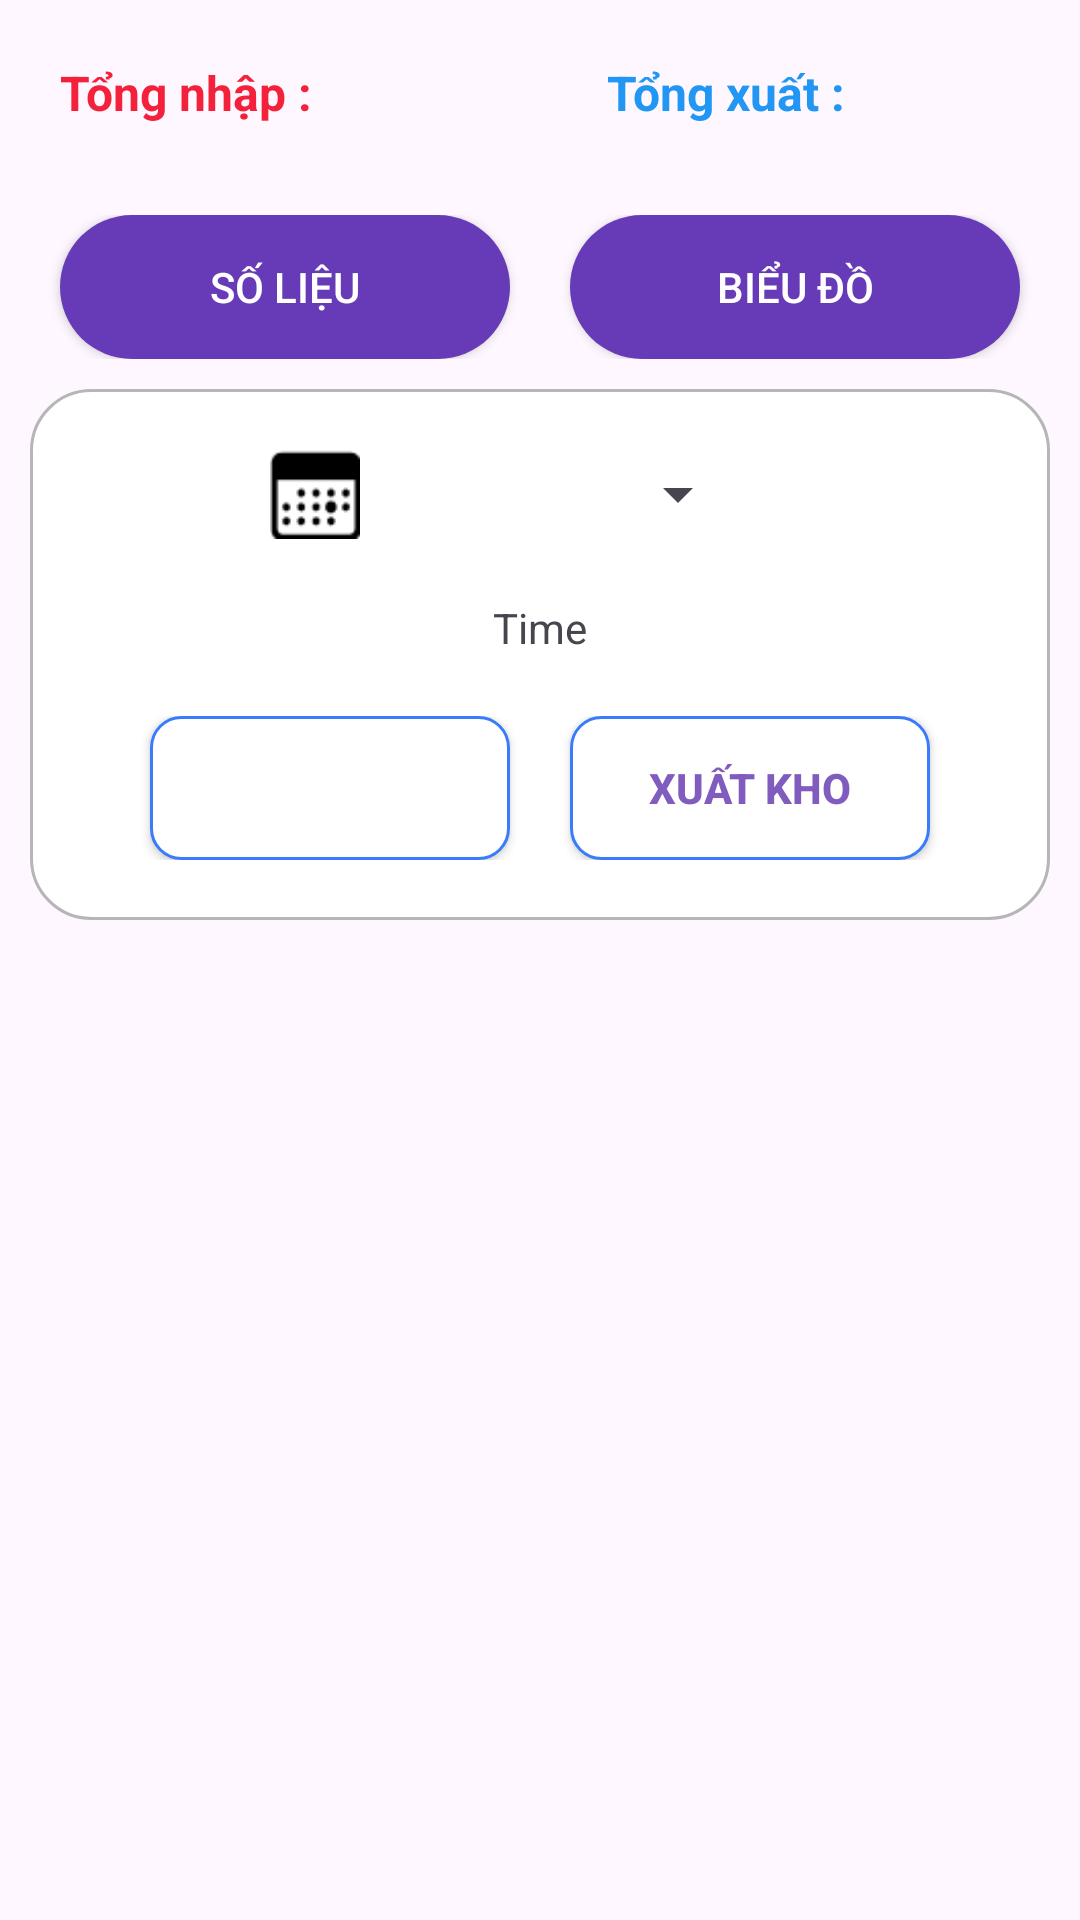

Icon click points for this 1080 x 1920 phone screenshot, format (x=x, y=y):
calendar: (x=315, y=495)
